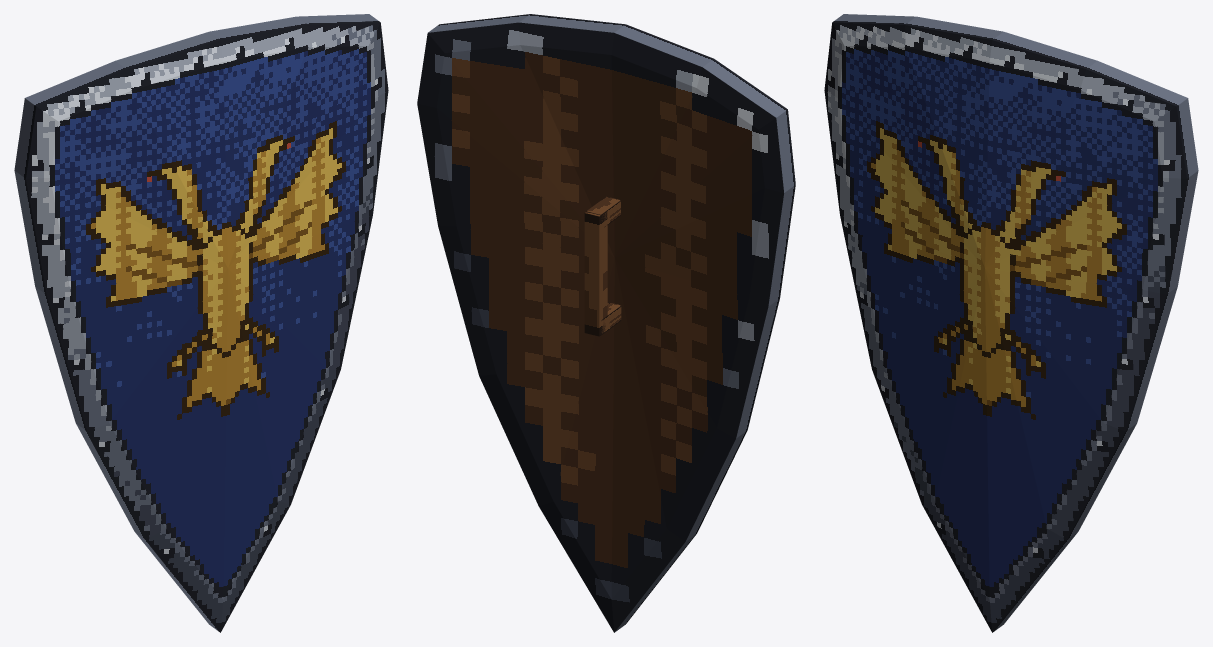
Rendered from shield_kite_crest.glb.
The picture shows the model from 3 angles, left to right: view 1: azimuth 30°, elevation 25°; view 2: azimuth 150°, elevation 25°; view 3: azimuth 330°, elevation 25°; orthographic projection.
Visible parts, largest first — view 1: shield_kite_crest; view 2: shield_kite_crest; view 3: shield_kite_crest.
Part boxes in pixels (x1,y1,x2,y2): shield_kite_crest: [14, 14, 388, 632]; shield_kite_crest: [417, 14, 795, 632]; shield_kite_crest: [824, 14, 1198, 632].
Bounding box in the file's own units: 0.8 × 1.25 × 0.156.
1 material, 1 textured.
